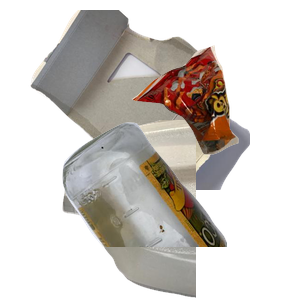glass: (60, 120, 300, 300)
paper: (28, 10, 268, 190)
plastic: (60, 120, 300, 300)
trash: (130, 43, 300, 190)
